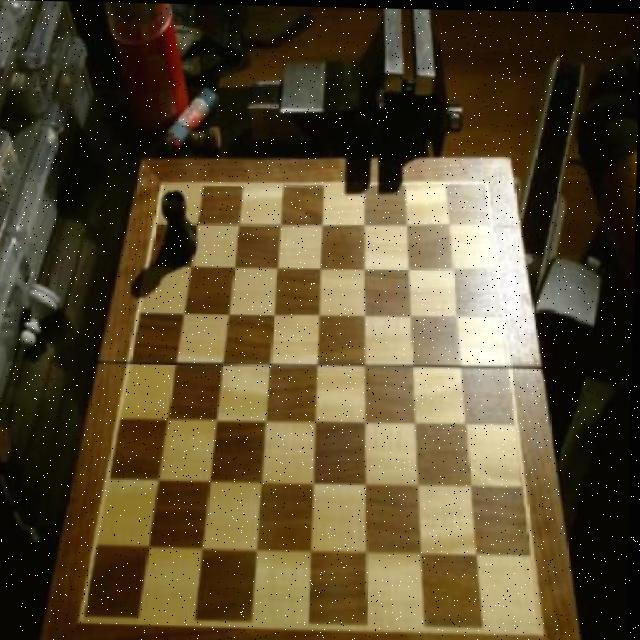black-queen: (160, 188, 200, 267)
